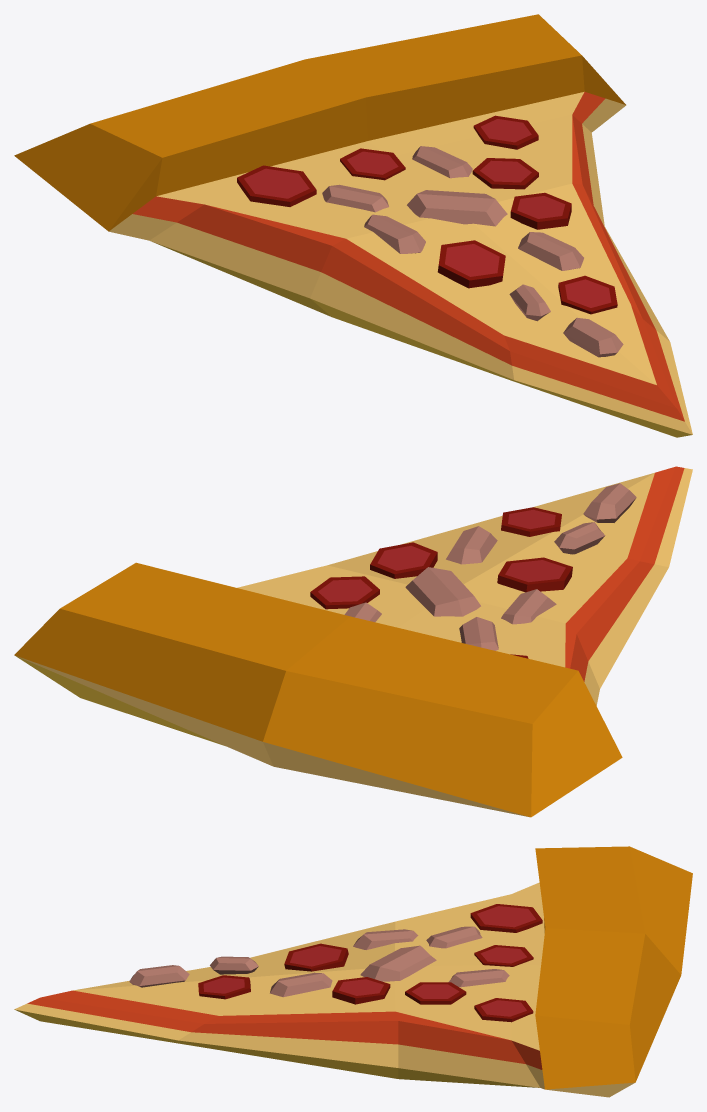
Rendered from Pizza Slice.fbx.
3 renders of one model, top to bottom at view 1: azimuth 30°, elevation 25°; view 2: azimuth 150°, elevation 25°; view 3: azimuth 270°, elevation 25°, orthographic. The views are drawn at different scales.
Parts seen in each view (by area): view 1: Pizza Slice; view 2: Pizza Slice; view 3: Pizza Slice.
Boxes of the visible parts, bbox=[...] form: Pizza Slice: bbox=[14, 14, 692, 437]; Pizza Slice: bbox=[14, 466, 692, 817]; Pizza Slice: bbox=[14, 846, 692, 1097].
Size of the model in its own units: 15.39 by 3.46 by 21.11.
